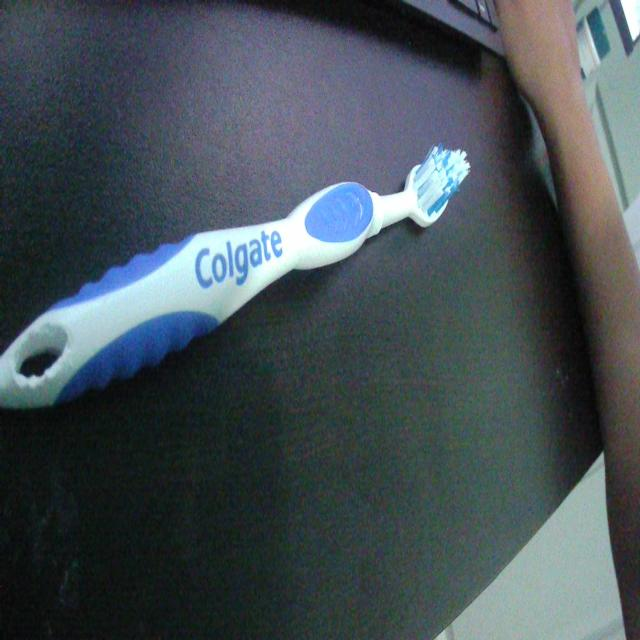Organico: (4, 125, 482, 436)
